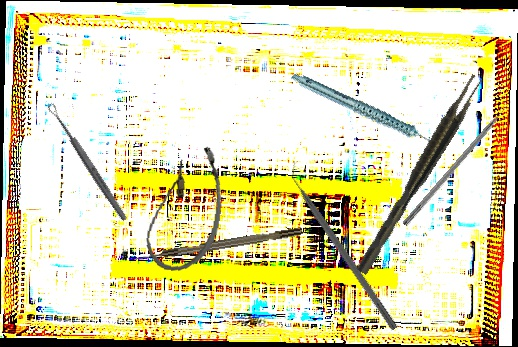Cannula: (142, 139, 230, 277)
Chopper: (282, 159, 407, 331)
Handpiece: (290, 46, 439, 178)
Hook Surgical: (402, 99, 515, 228), (133, 227, 304, 263)
Surgical Spoon: (46, 101, 129, 223)
Tissue Forceps: (349, 72, 488, 276)
